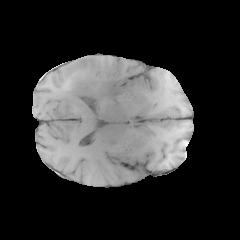glioma: (51, 56, 126, 104)
